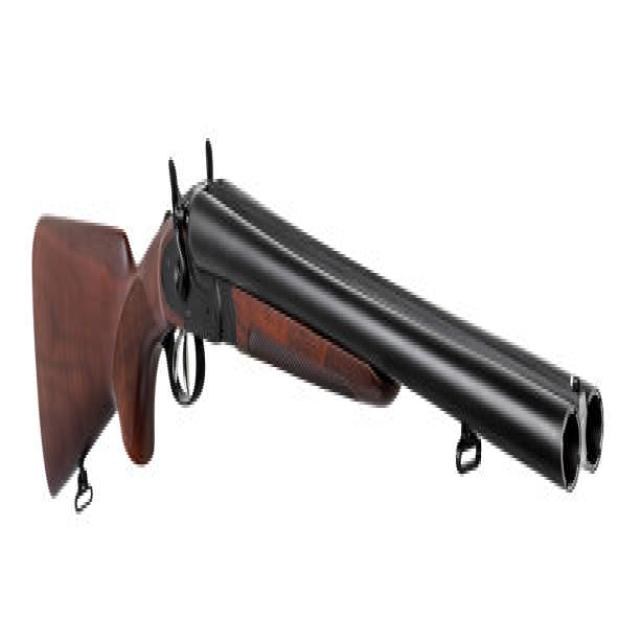rifle: (30, 129, 613, 549)
